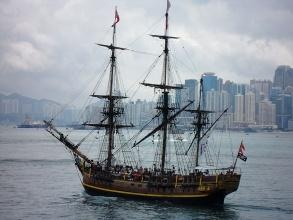fanchuan: (50, 9, 252, 200)
